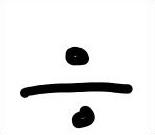div: (20, 46, 132, 129)
